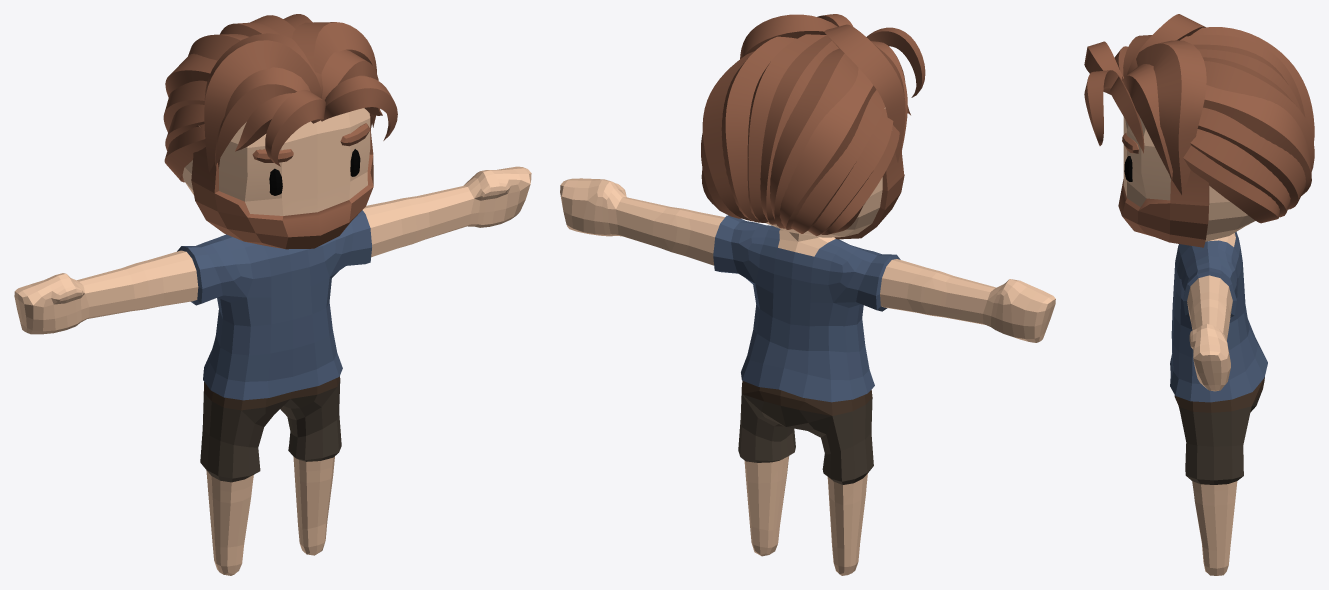
The model's file is PROTAGONIST.fbx.
The picture shows the model from 3 angles, left to right: view 1: azimuth 30°, elevation 25°; view 2: azimuth 150°, elevation 25°; view 3: azimuth 270°, elevation 25°; orthographic projection. The views are drawn at different scales.
Visible parts, largest first — view 1: Body; view 2: Body; view 3: Body.
Part boxes in pixels (left/top/right/bottom): Body: left=14, top=14, right=531, bottom=575; Body: left=560, top=14, right=1055, bottom=575; Body: left=1084, top=14, right=1314, bottom=575.
Bounding box in the file's own units: 324 × 333 × 132.
